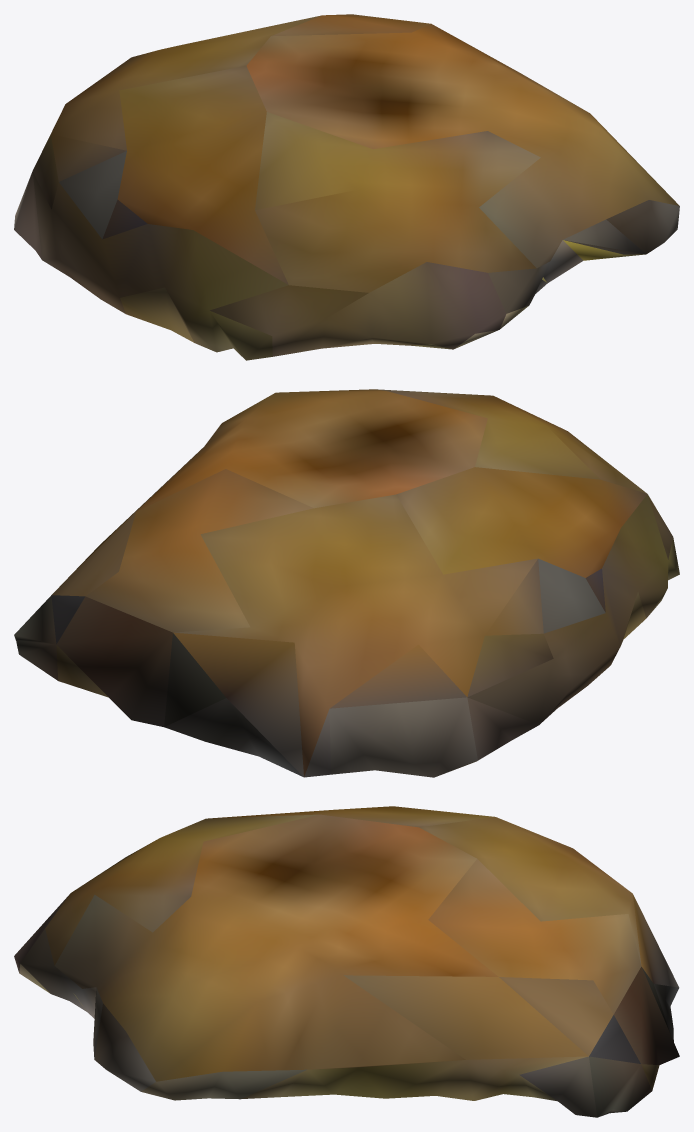
Rendered from bun-top.glb.
The picture shows the model from 3 angles, top to bottom: view 1: azimuth 30°, elevation 25°; view 2: azimuth 150°, elevation 25°; view 3: azimuth 270°, elevation 25°; orthographic projection. The views are drawn at different scales.
Parts seen in each view (by area): view 1: bun-top; view 2: bun-top; view 3: bun-top.
Boxes of the visible parts, x1=… form: bun-top: x1=14, y1=14, x2=679, y2=360; bun-top: x1=14, y1=389, x2=679, y2=777; bun-top: x1=14, y1=806, x2=679, y2=1117.
Size of the model in its own units: 7.71 by 2.85 by 9.4.
3 materials, 2 textured.
